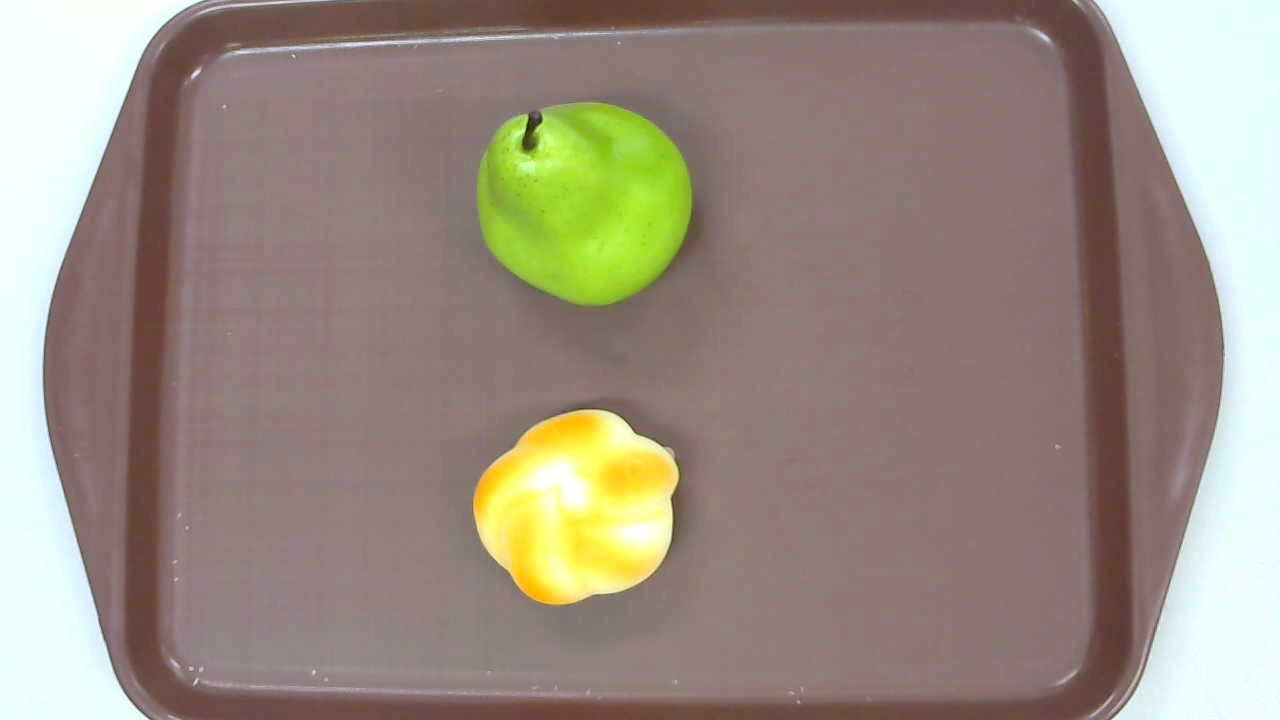green pear: (474, 101, 693, 307)
twist bread: (474, 409, 678, 603)
